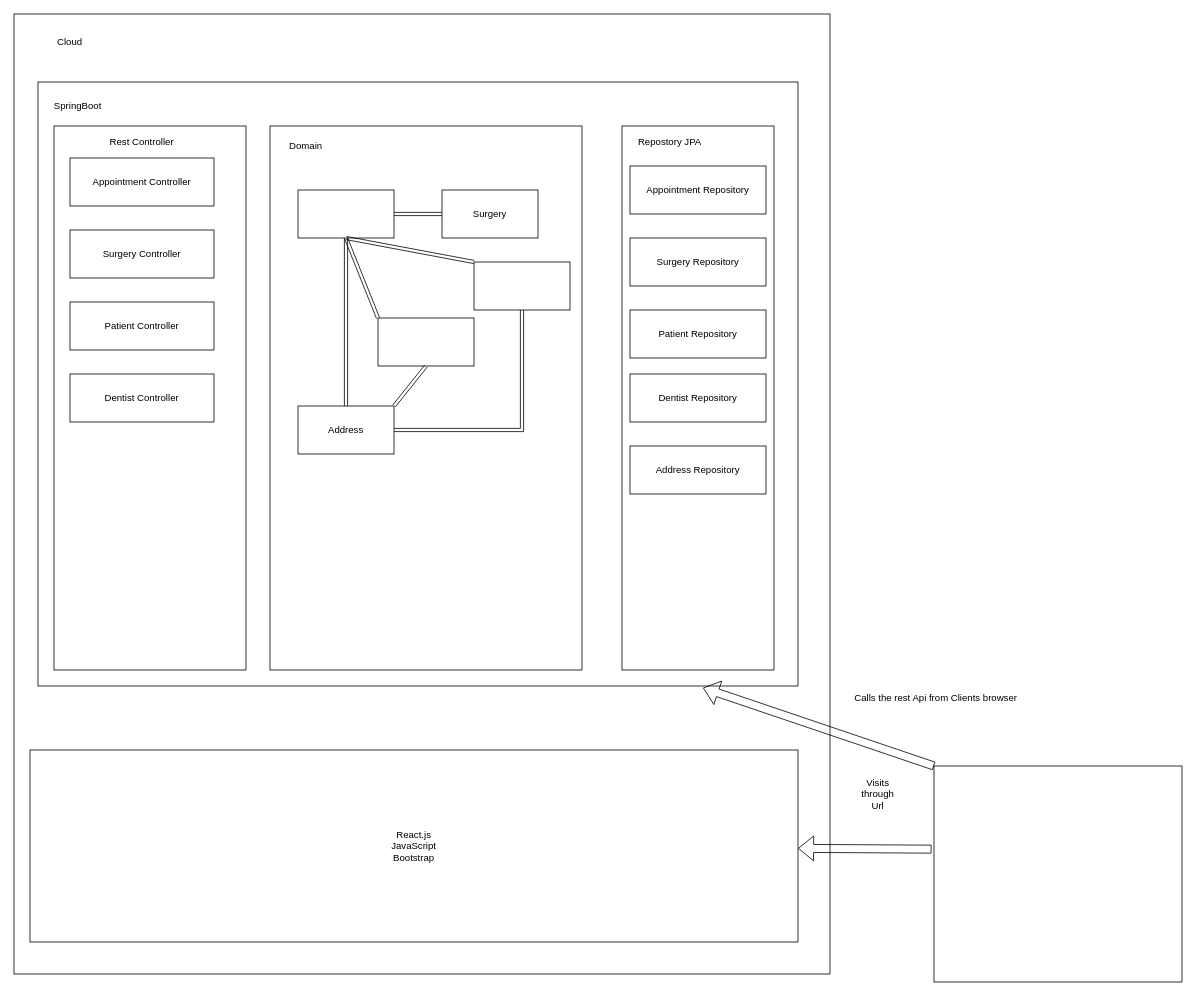
This 1196x996 diagram has some shape labels left out. Each missing label, with the centre of its shape:
"Appointment" goes at [345,213].
"Client" goes at [1057,873].
"Dentist" goes at [425,341].
"Patient" goes at [521,285].
